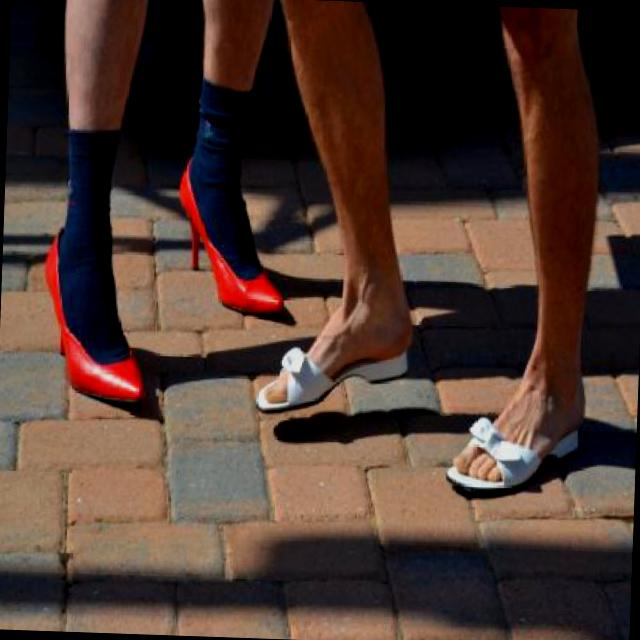Person: (248, 0, 602, 497), (38, 0, 298, 410)
